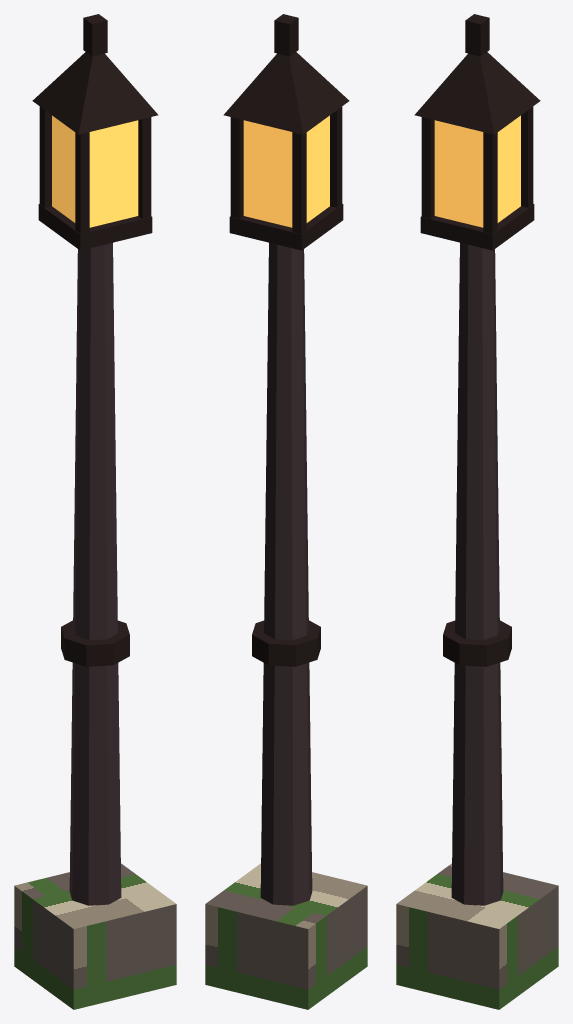
File: lamp_post.glb
The picture shows the model from 3 angles, left to right: view 1: azimuth 30°, elevation 25°; view 2: azimuth 150°, elevation 25°; view 3: azimuth 330°, elevation 25°; orthographic projection.
Parts seen in each view (by area): view 1: lamp_post; view 2: lamp_post; view 3: lamp_post.
Boxes of the visible parts, bbox=[...] form: lamp_post: bbox=[14, 14, 176, 1009]; lamp_post: bbox=[205, 14, 367, 1009]; lamp_post: bbox=[396, 14, 558, 1009].
Size of the model in its own units: 0.4 by 3.55 by 0.4.
3 materials, 1 textured.
